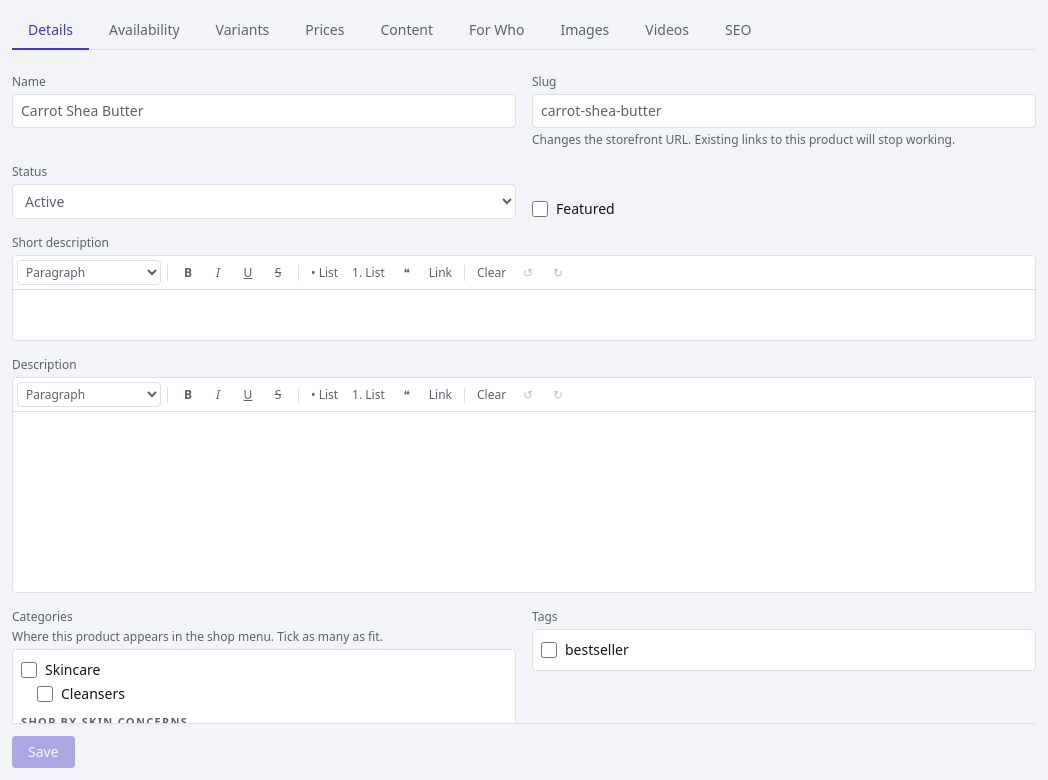
Test: ProductEditor › KEEPS UNSAVED EDITS WHEN THE TAB CHANGES
Replace the text in the field showing "Carrot Shea Butter" with "Carrot Shea Butter Deluxe" at (264, 111), box [12,94,516,128]
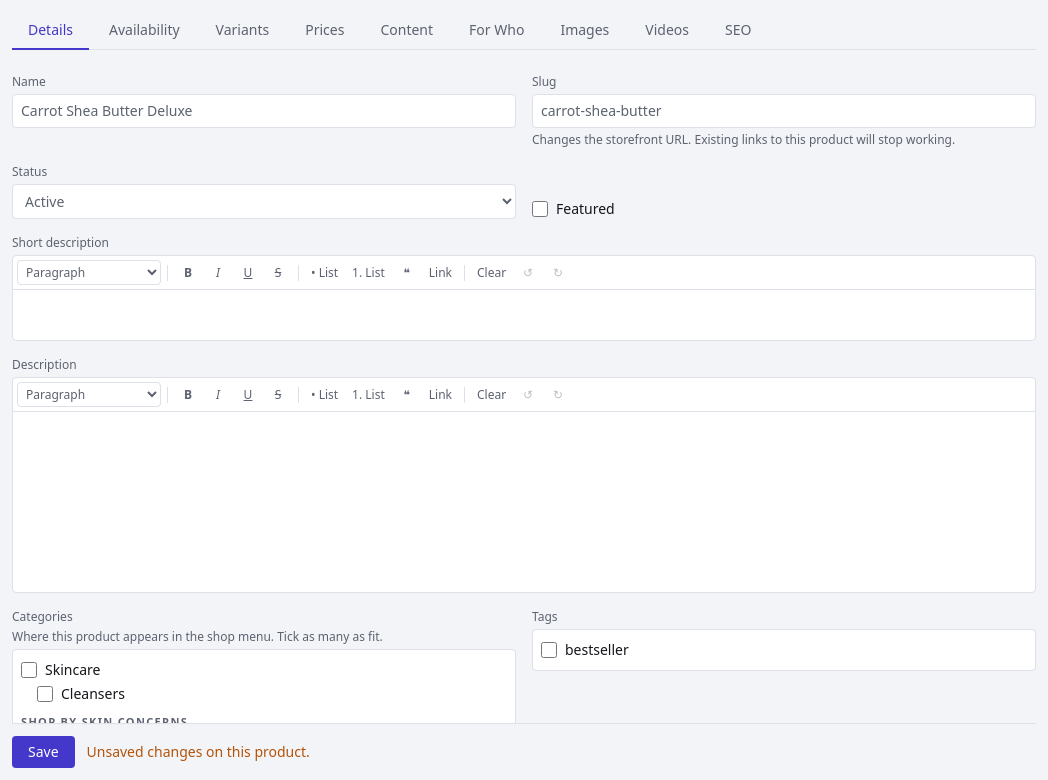
Click the tab "Availability" at (144, 31), box [93,12,196,50]
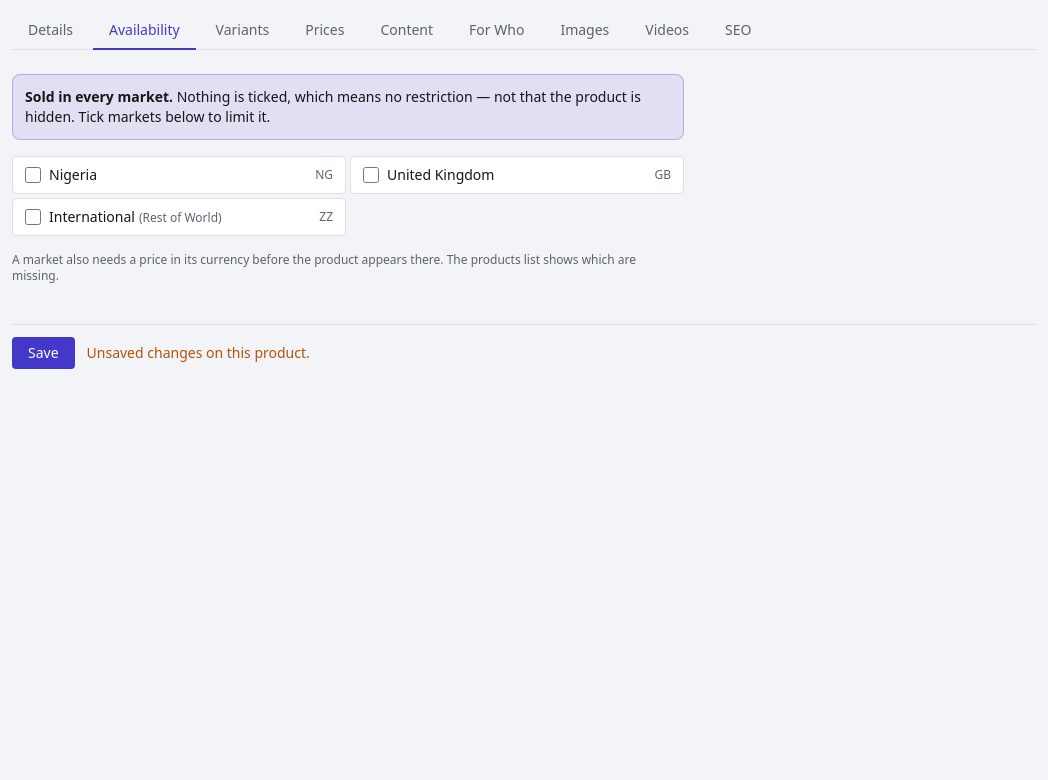
Click the tab "Details" at (50, 31), box [12,12,89,50]
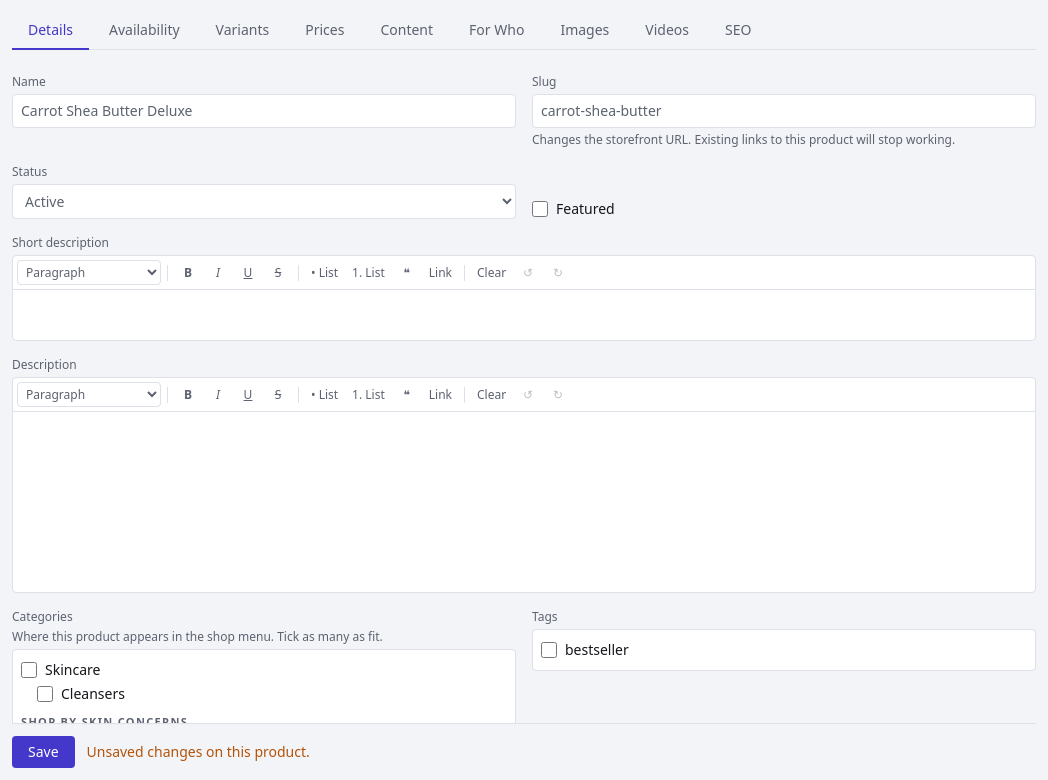
Expected: the field showing "Carrot Shea Butter Deluxe" is shown, [12,94,516,128]
